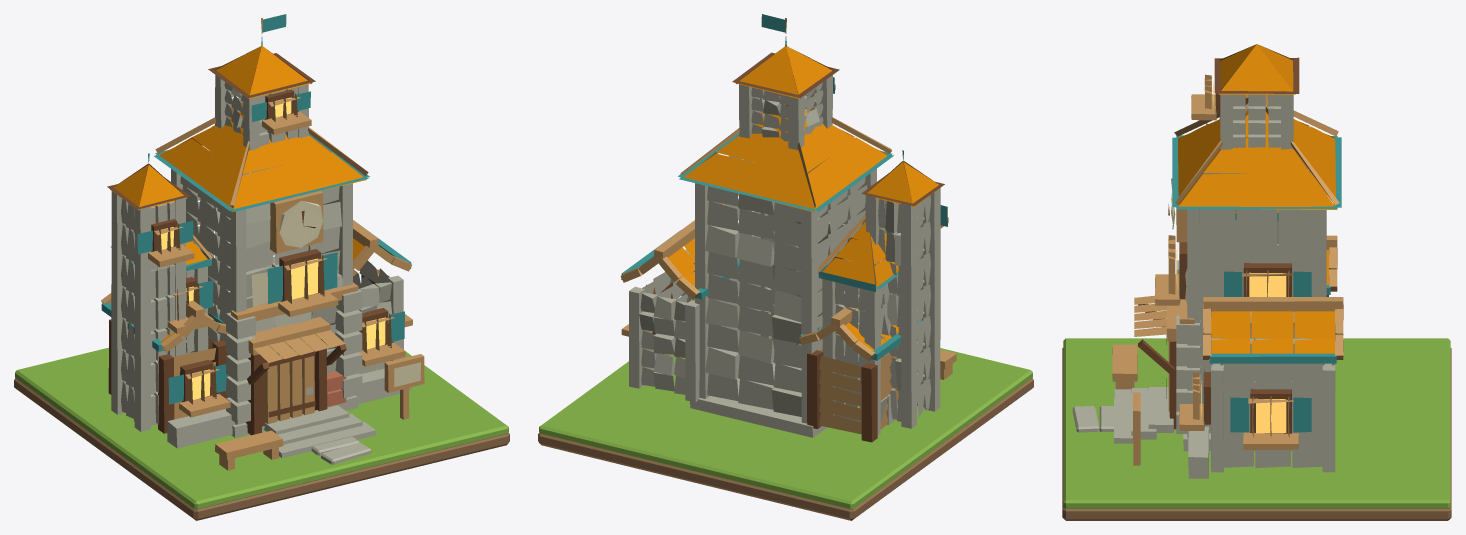
Rendered from town_hall_l08_active_LOD2.glb.
3 renders of one model, left to right at view 1: azimuth 30°, elevation 25°; view 2: azimuth 150°, elevation 25°; view 3: azimuth 270°, elevation 25°, orthographic. The views are drawn at different scales.
Parts seen in each view (by area): view 1: town_hall_l08_active_foundation.001, town_hall_l08_active_grass_tile.001, town_hall_l08_active_earth_tile.001, town_hall_l08_active_path_stone.005; view 2: town_hall_l08_active_foundation.001, town_hall_l08_active_grass_tile.001, town_hall_l08_active_earth_tile.001; view 3: town_hall_l08_active_foundation.001, town_hall_l08_active_grass_tile.001, town_hall_l08_active_earth_tile.001, town_hall_l08_active_path_stone.005.
Part boxes in pixels (x1,y1,x2,y2): town_hall_l08_active_foundation.001: (101, 14, 424, 470); town_hall_l08_active_grass_tile.001: (15, 330, 508, 509); town_hall_l08_active_earth_tile.001: (14, 378, 509, 520); town_hall_l08_active_path_stone.005: (321, 442, 371, 464); town_hall_l08_active_foundation.001: (620, 14, 956, 442); town_hall_l08_active_grass_tile.001: (539, 348, 1032, 509); town_hall_l08_active_earth_tile.001: (538, 378, 1033, 520); town_hall_l08_active_foundation.001: (1112, 44, 1343, 478); town_hall_l08_active_grass_tile.001: (1063, 338, 1450, 508); town_hall_l08_active_earth_tile.001: (1062, 348, 1451, 520); town_hall_l08_active_path_stone.005: (1072, 406, 1099, 432).
Size of the model in its own units: 3.6 by 4.34 by 3.6.
